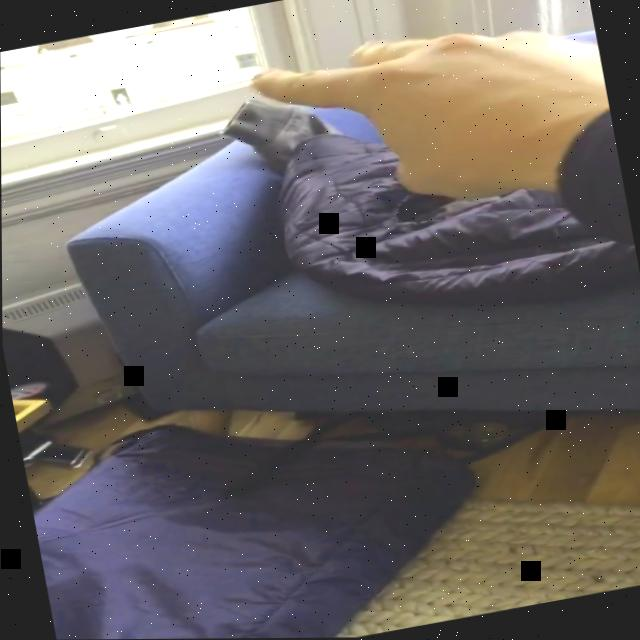Scissors: (243, 0, 621, 237)
